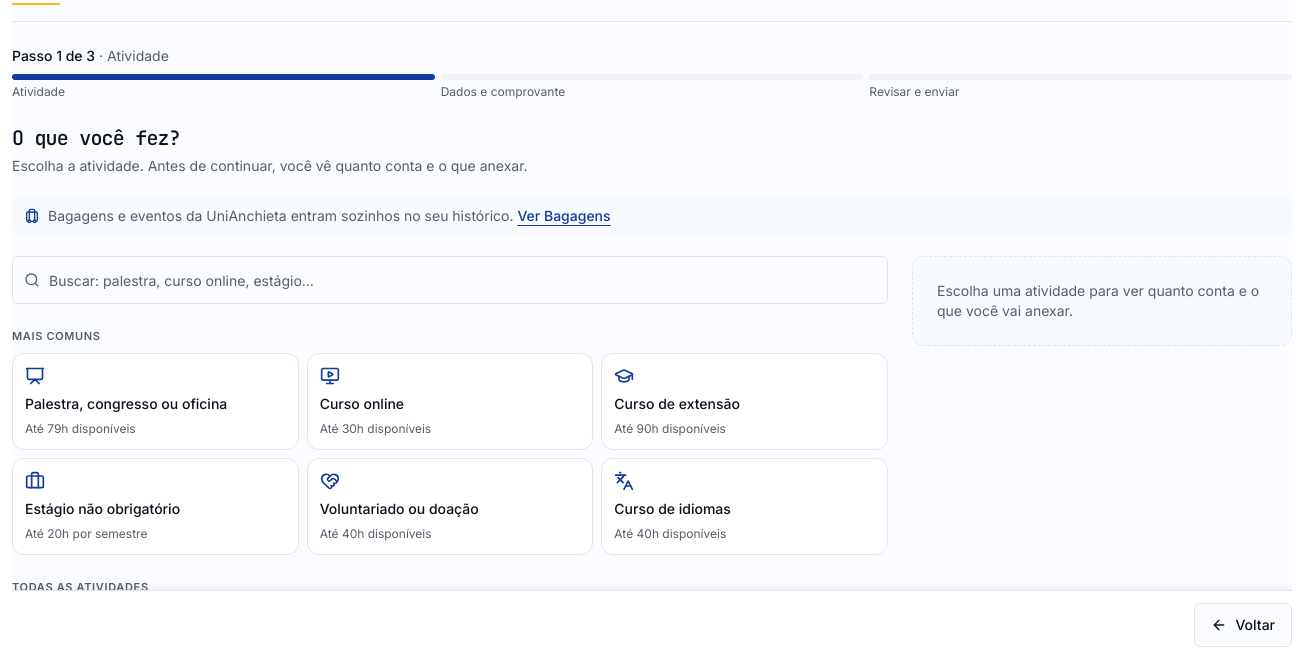
Scenario: Solicitação › publicação: sem campo de comprovante e com o máximo explicado antes da digitação
In the search field named "Buscar atividade": (450, 280) [12,256,888,304], type "publicacao periodico"
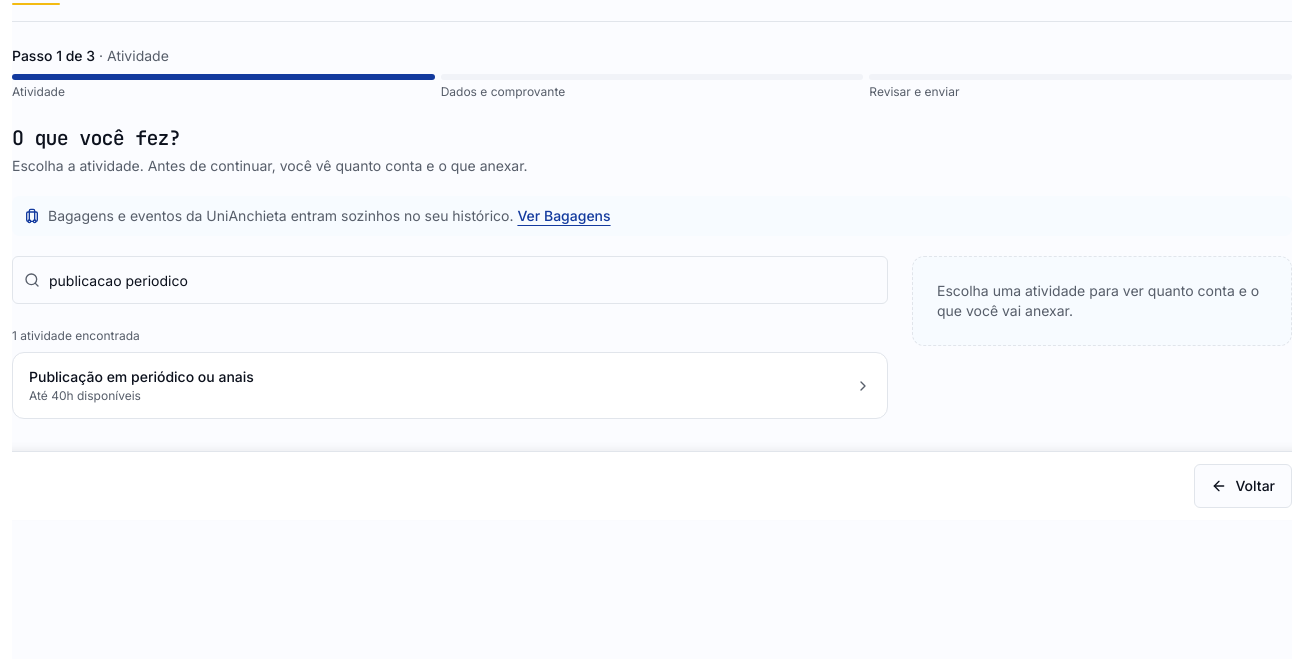
Click the button "Publicação em periódico ou anais Até 40h disponíveis": click(141, 376) [17,357,883,414]
(page scrolled)
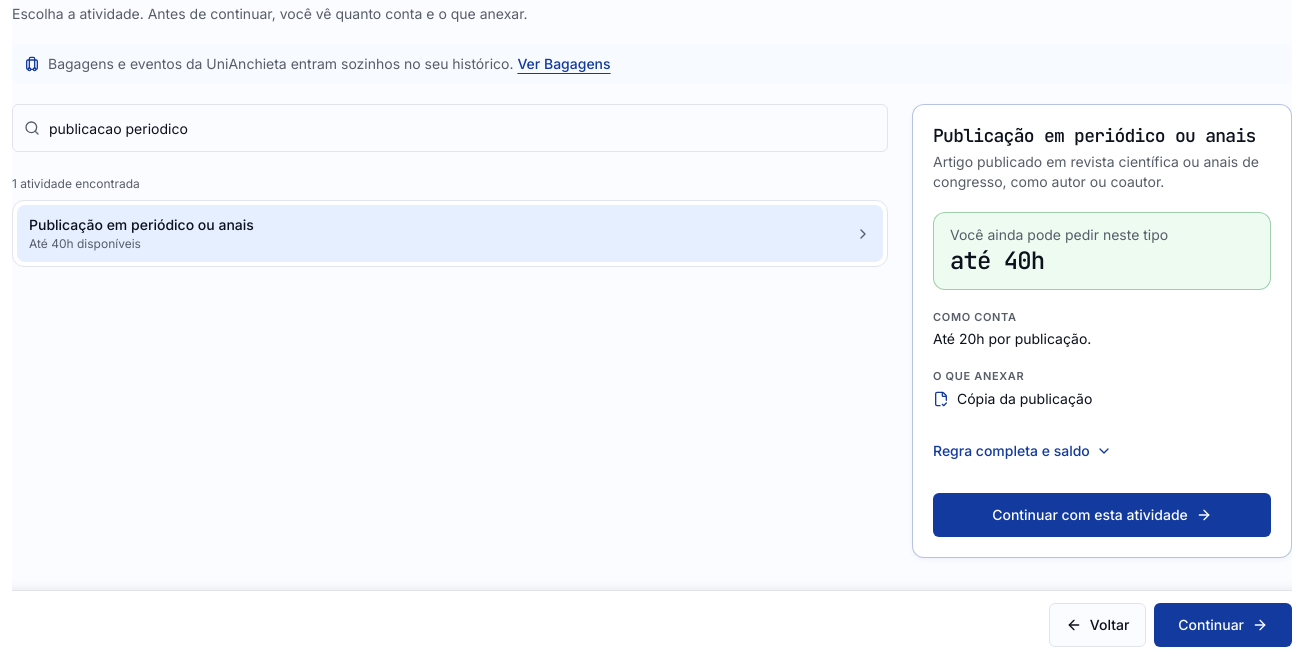
Click the button "Continuar com esta atividade": click(1102, 515) [933,493,1271,537]
(page scrolled)
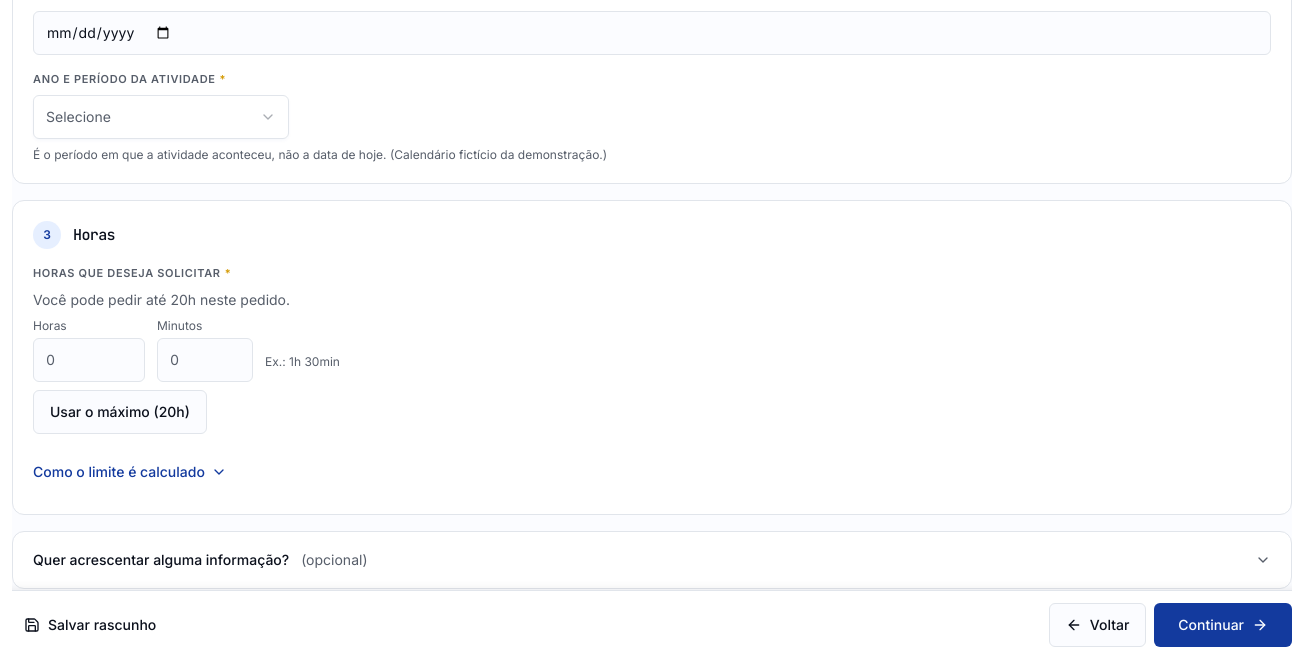
Check: the text "Você pode pedir até 20h neste pedido." is shown, box [33,290,290,308]
